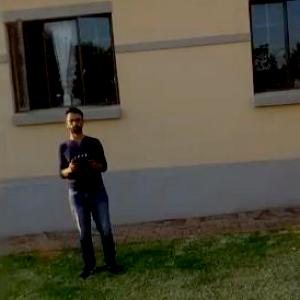follow: (57, 102, 126, 282)
